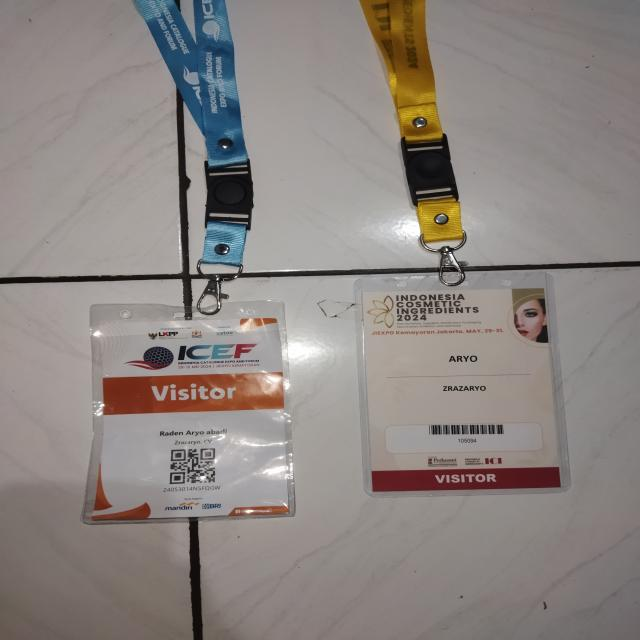ID_card: (354, 270, 570, 497), (80, 300, 294, 524)
